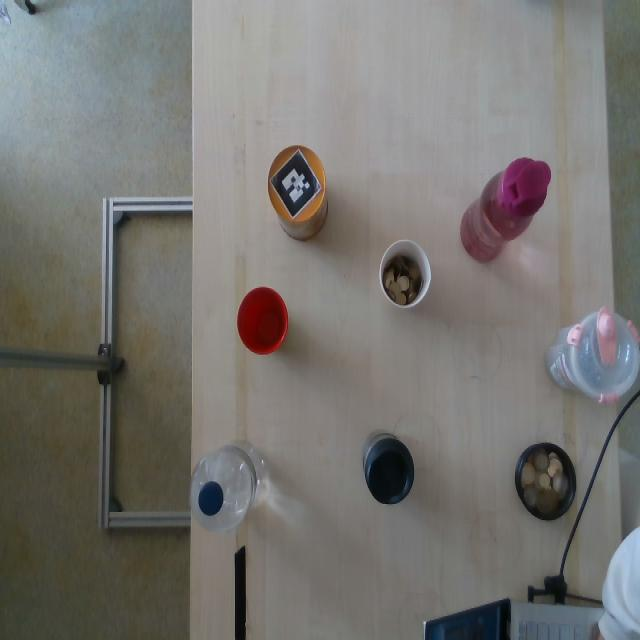cups: (460, 157, 550, 266), (547, 310, 640, 402), (190, 438, 266, 535), (268, 143, 329, 241), (514, 438, 576, 526), (361, 427, 415, 508), (236, 287, 290, 357), (381, 240, 430, 308)
